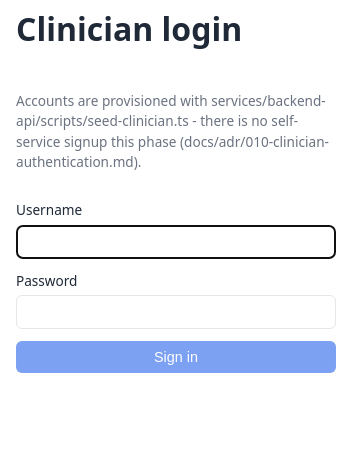
LoginPage › shows an error and does not store a token on failed login
Type "drchen" into the field labelled "Username" at coordinates (176, 242), box left=16, top=225, right=336, bottom=259
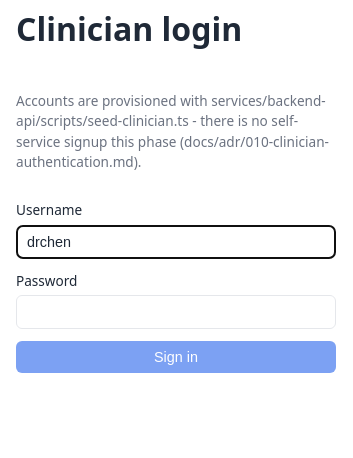
Type "wrong-password" into the password field labelled "Password" at coordinates (176, 312), box left=16, top=295, right=336, bottom=329
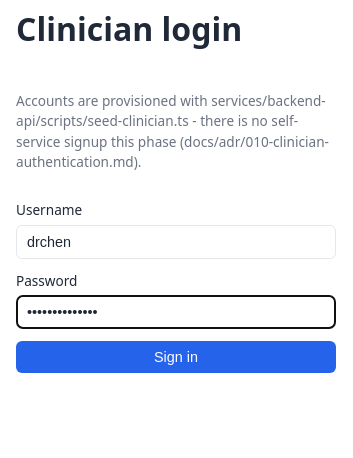
Click the button "Sign in" at coordinates (176, 357), box left=16, top=341, right=336, bottom=373
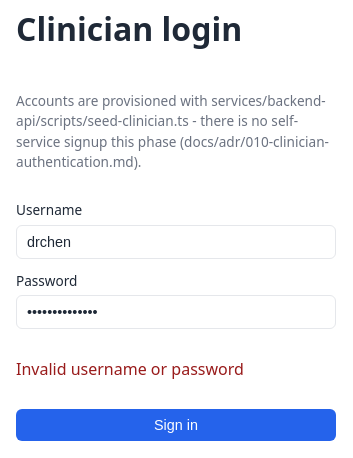
Result: the text "Invalid username or password" is shown at left=16, top=358, right=244, bottom=380
